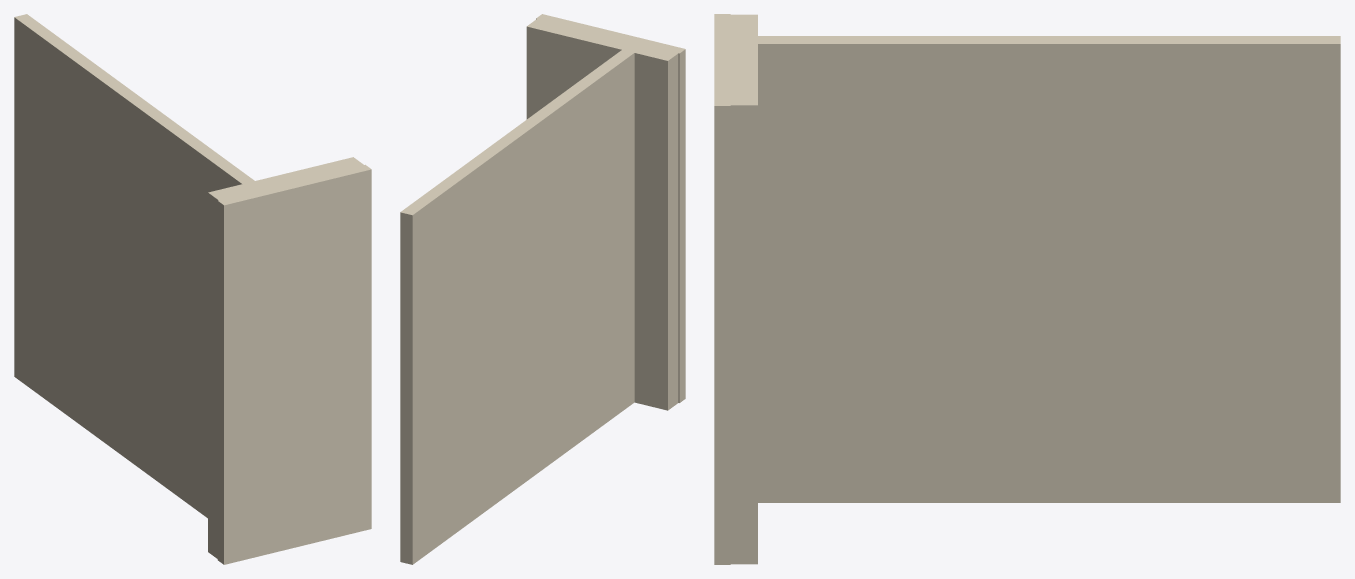
The picture shows the model from 3 angles, left to right: view 1: azimuth 30°, elevation 25°; view 2: azimuth 150°, elevation 25°; view 3: azimuth 270°, elevation 25°; orthographic projection. The views are drawn at different scales.
Visible parts, largest first — view 1: B-FF-WALL-007; view 2: B-FF-WALL-007; view 3: B-FF-WALL-007.
Boxes of the visible parts, <box> form: B-FF-WALL-007: <box>14,14,371,564</box>; B-FF-WALL-007: <box>400,14,685,564</box>; B-FF-WALL-007: <box>714,14,1340,564</box>.
Bounding box in the file's own units: 1.04 × 2.42 × 2.99.
